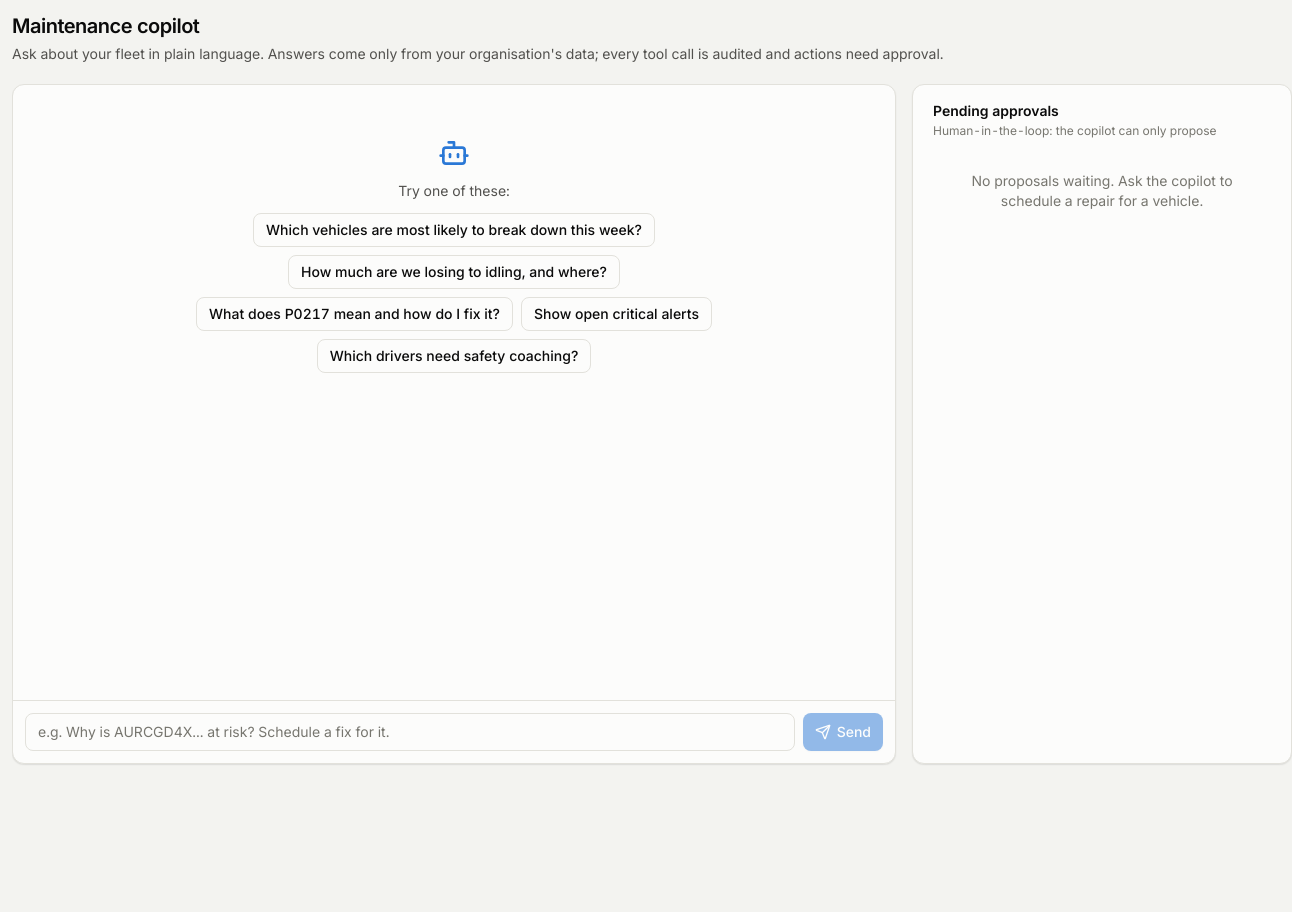
Test: copilot page › survives browsers whose scrollIntoView returns a Promise (Chrome/Edge 150+)
The image size is (1292, 912).
Step 1. Click the button "Which vehicles are most likely to break down this week?" → (454, 230), box x1=253 y1=213 x2=655 y2=247
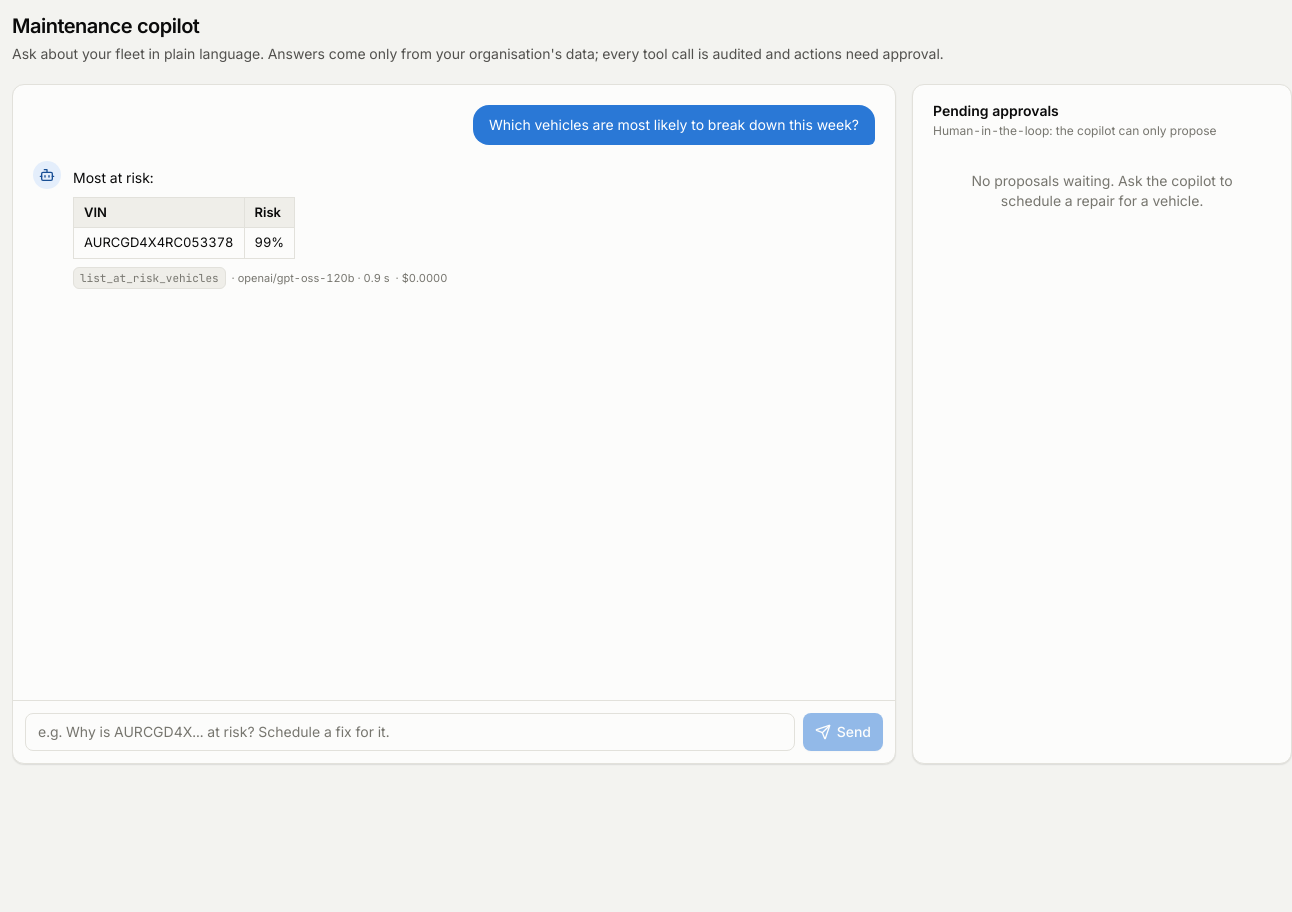
Check: the table shows "AURCGD4X4RC053378", box x1=84 y1=234 x2=234 y2=250
Check: the text "· openai/gpt-oss-120b · 0.9 s" is shown, box x1=232 y1=270 x2=390 y2=286
